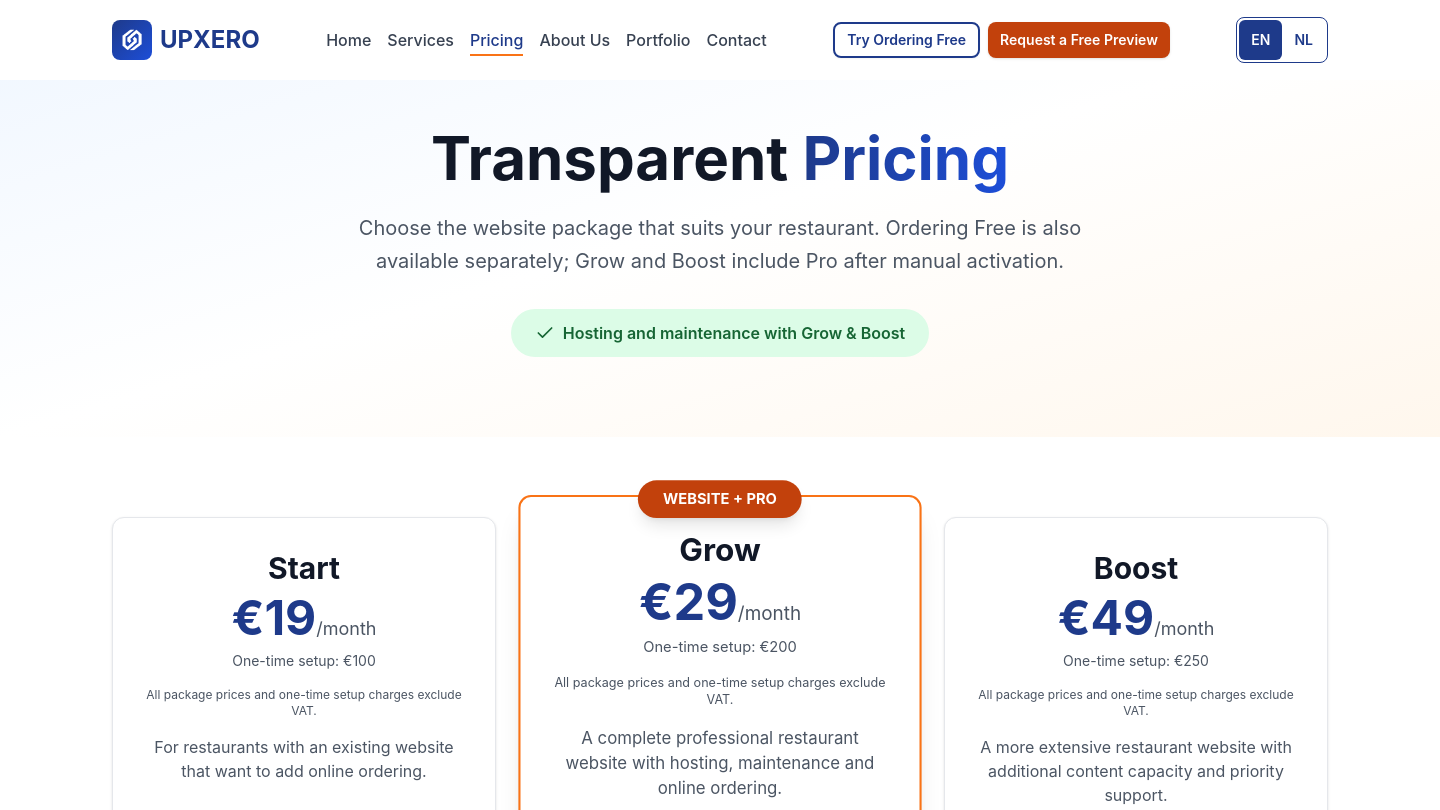
Scenario: pricing renders and switches both language URLs without missing keys
The width and height of the screenshot is (1440, 810).
Click the button "NL": coordinates (1304, 40) [1282,20,1325,60]
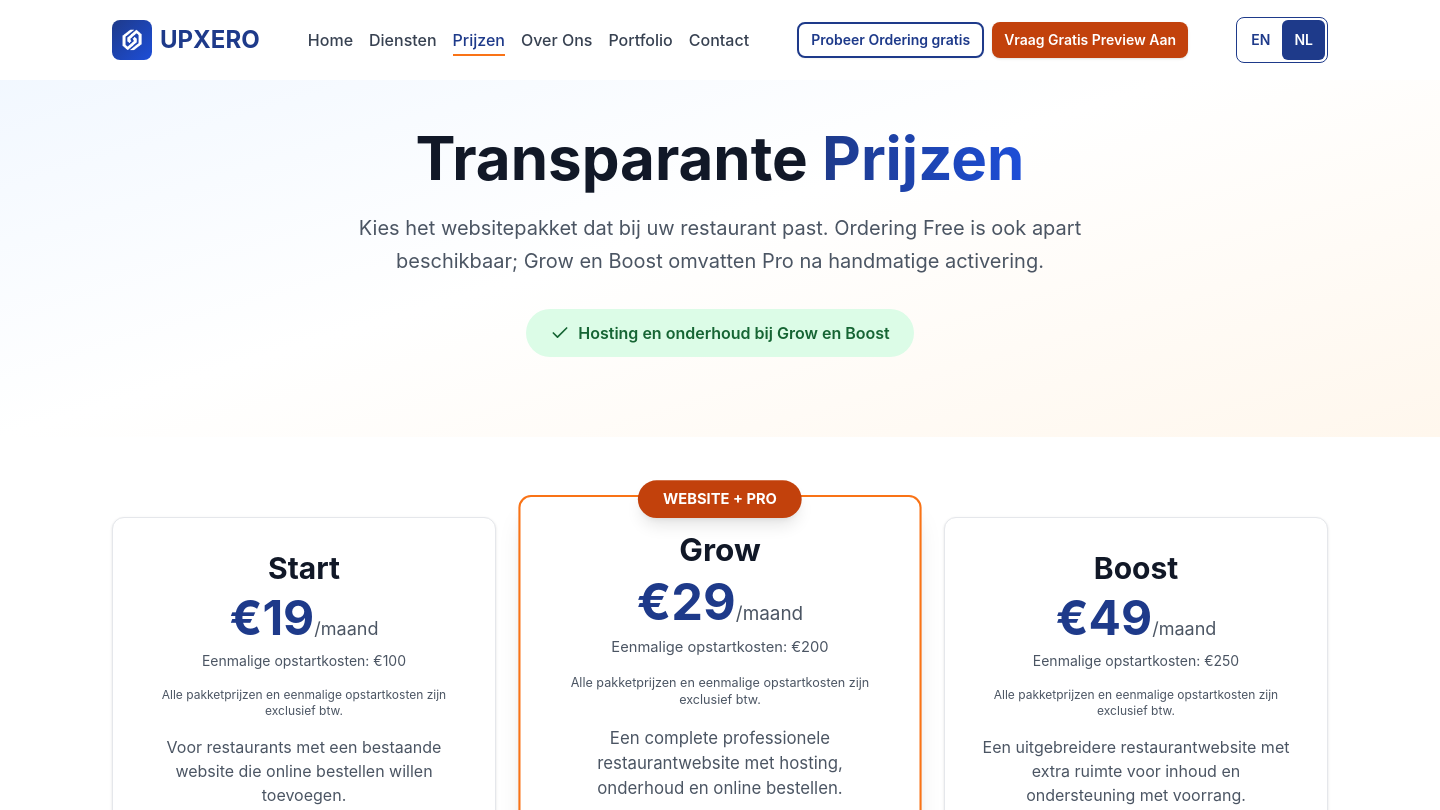
Expected: the heading "Transparante Prijzen" is shown, [416,122,1024,194]
Click the button "EN": coordinates (1261, 40) [1239,20,1282,60]
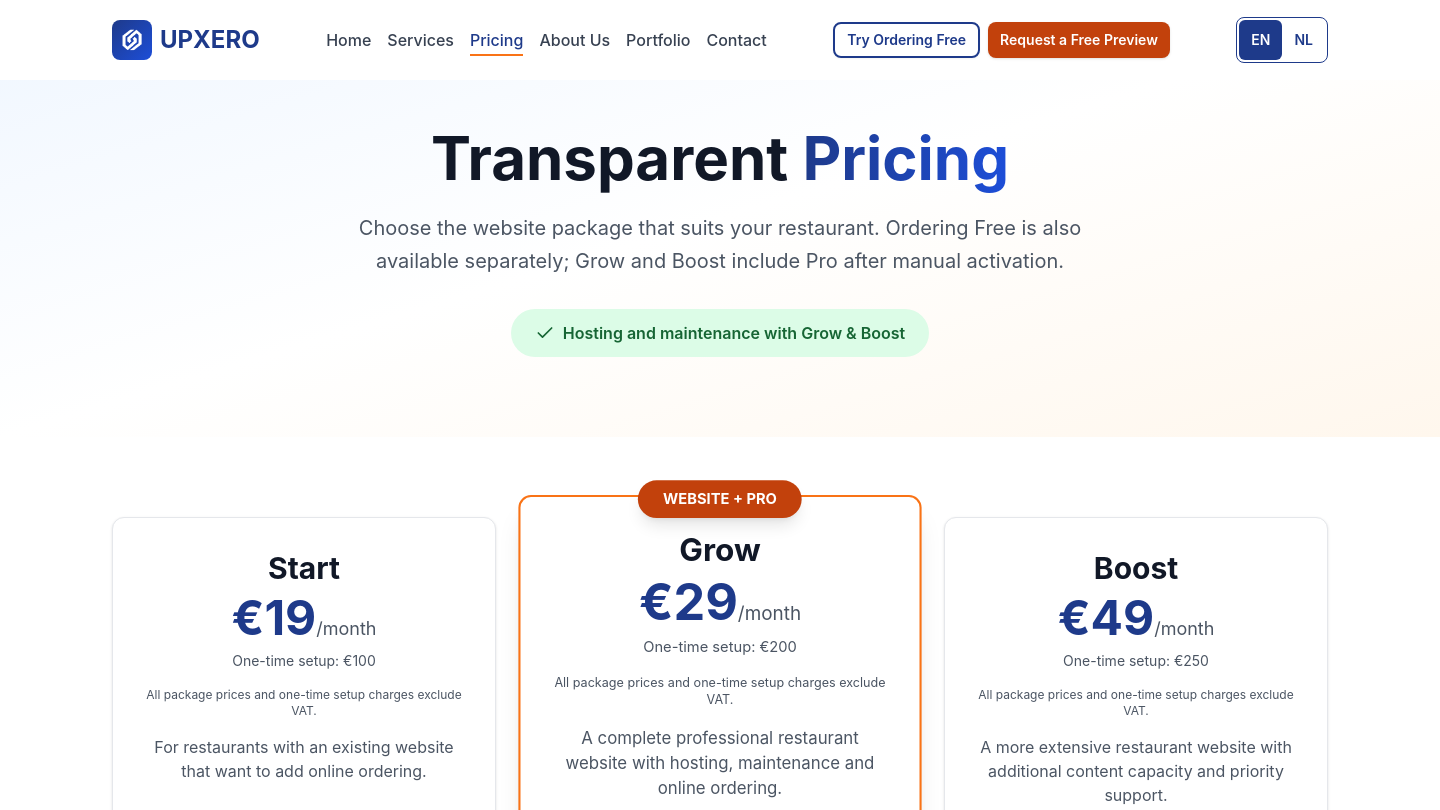
Expected: the heading "Transparent Pricing" is shown, [431,122,1009,194]
